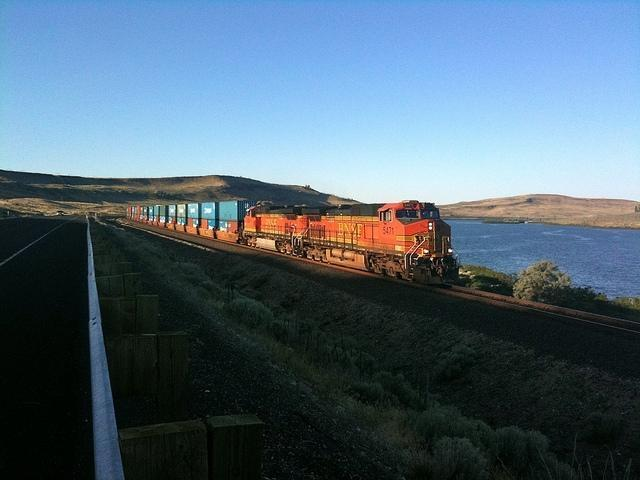car: (54, 210, 66, 216)
